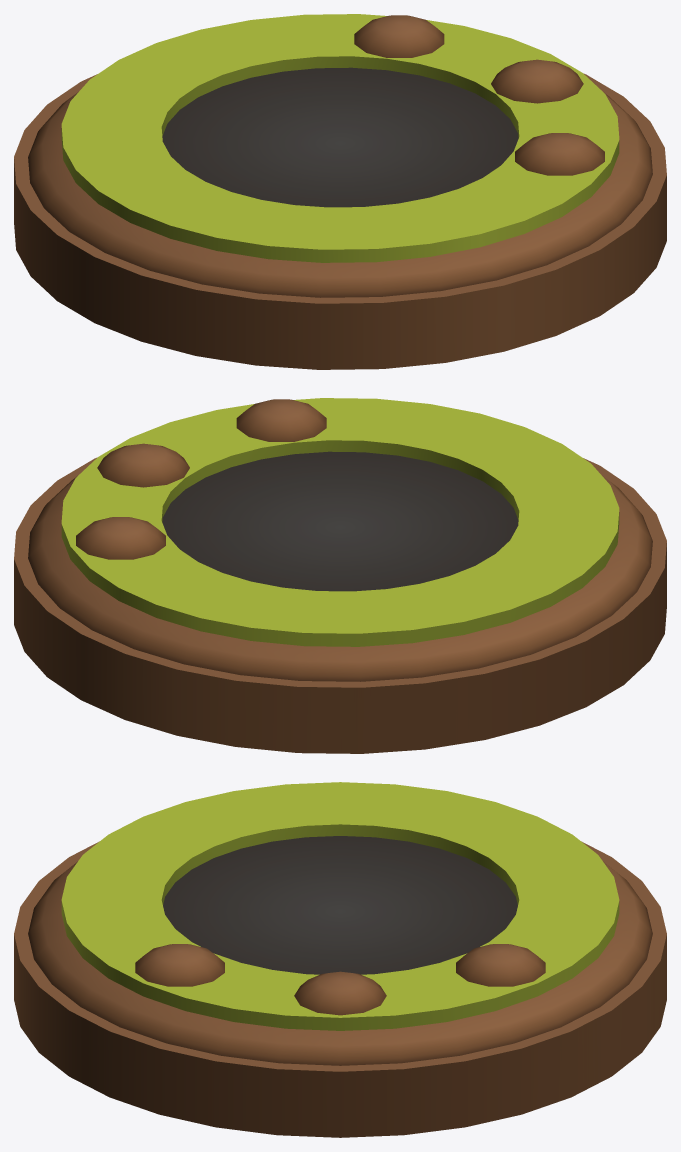
The model's file is AR_SavePortal_002.FBX.
The picture shows the model from 3 angles, top to bottom: view 1: azimuth 30°, elevation 25°; view 2: azimuth 150°, elevation 25°; view 3: azimuth 270°, elevation 25°; orthographic projection.
Parts seen in each view (by area): view 1: AR_SavePortal_002; view 2: AR_SavePortal_002; view 3: AR_SavePortal_002.
Boxes of the visible parts, left/top/right/bottom form: AR_SavePortal_002: left=14, top=14, right=666, bottom=369; AR_SavePortal_002: left=14, top=398, right=666, bottom=753; AR_SavePortal_002: left=14, top=782, right=666, bottom=1137.
Bounding box in the file's own units: 130 × 25.64 × 130.
